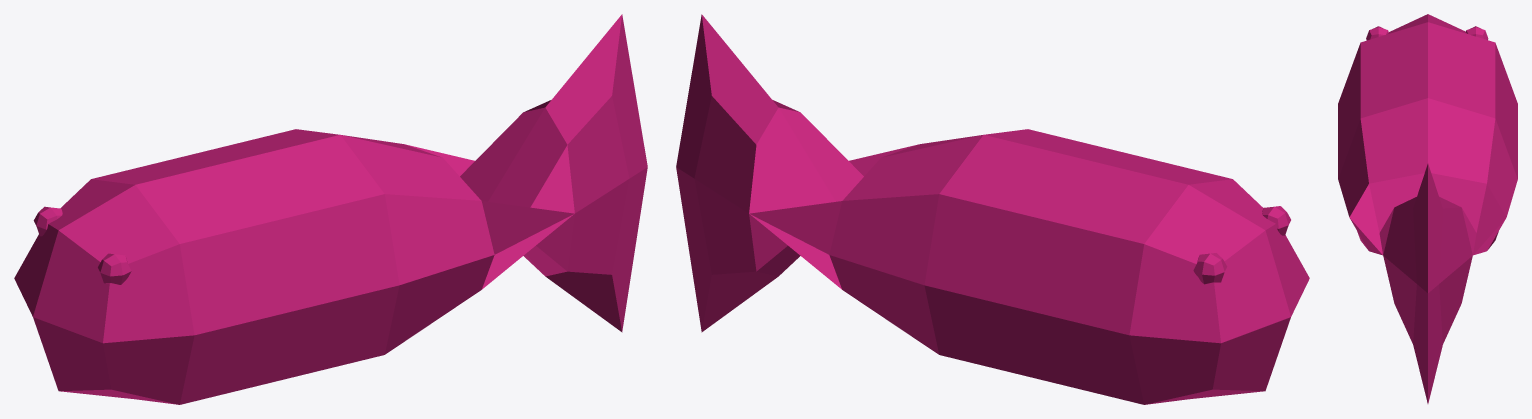
The model's file is purple_fish.obj.
3 views of the same model, side by side, from view 1: azimuth 30°, elevation 25°; view 2: azimuth 150°, elevation 25°; view 3: azimuth 270°, elevation 25° (orthographic). The views are drawn at different scales.
Parts seen in each view (by area): view 1: Cube, Cube.001; view 2: Cube, Cube.002; view 3: Cube, Cube.001, Cube.002.
Part boxes in pixels (box(x1,y1,x2,y2)): Cube: box(14, 14, 647, 404); Cube.001: box(98, 253, 131, 284); Cube: box(676, 14, 1309, 404); Cube.002: box(1193, 253, 1227, 284); Cube: box(1338, 14, 1517, 403); Cube.001: box(1366, 26, 1388, 40); Cube.002: box(1465, 26, 1488, 39).
Size of the model in its own units: 6 by 2.97 by 2.
